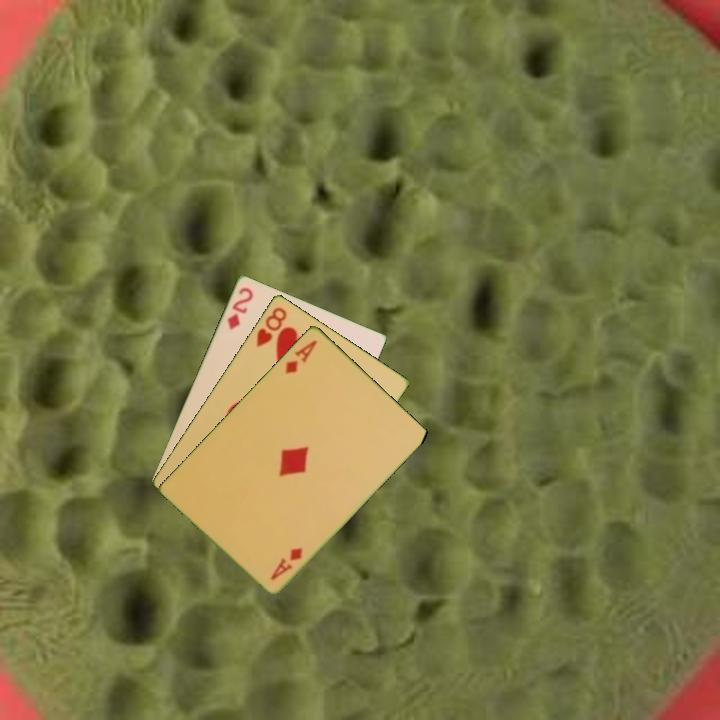2d: (224, 283, 256, 332)
8h: (252, 303, 290, 350)
Ad: (281, 336, 320, 376), (266, 543, 305, 583)
